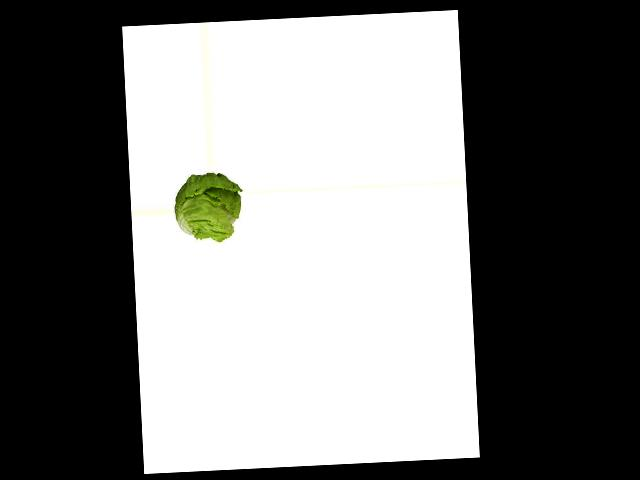lettuce: (170, 171, 243, 241)
